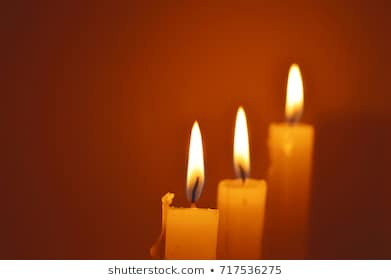Fire: (179, 117, 213, 204), (226, 98, 258, 179), (282, 59, 309, 123)
